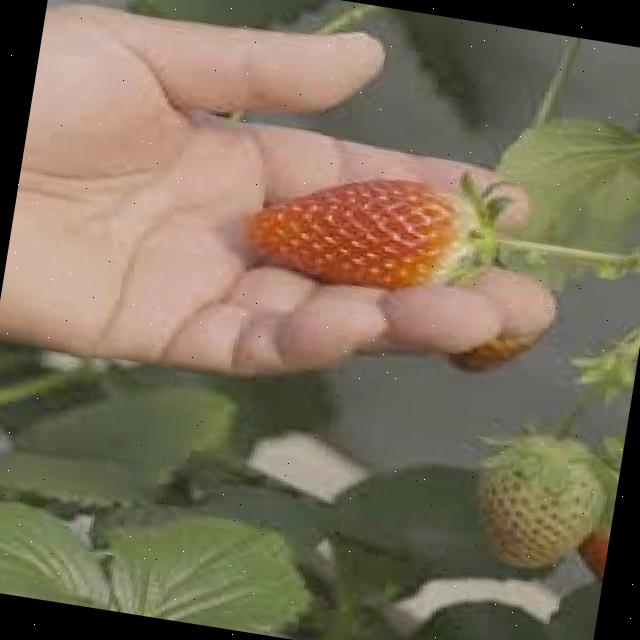strawberry: (242, 158, 486, 304), (468, 424, 610, 580)
